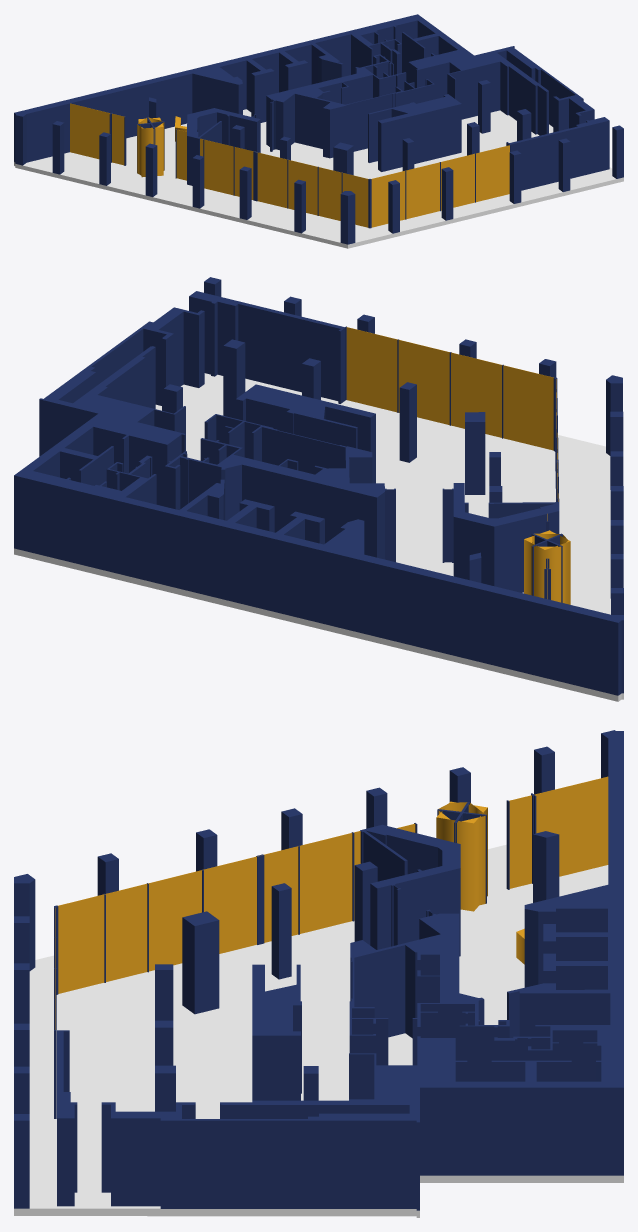
File: 1855B 1st Floor.fbx
The picture shows the model from 3 angles, top to bottom: view 1: azimuth 30°, elevation 25°; view 2: azimuth 150°, elevation 25°; view 3: azimuth 270°, elevation 25°; orthographic projection. The views are drawn at different scales.
Visible parts, largest first — view 1: Walls, Interior Member, Object_1; view 2: Walls, Object_1, Interior Member; view 3: Walls, Object_1, Interior Member.
Part boxes in pixels (box(x1,y1,x2,y2)): Walls: box(14, 14, 623, 244); Interior Member: box(70, 103, 509, 227); Object_1: box(14, 109, 623, 248); Walls: box(14, 277, 623, 695); Object_1: box(14, 373, 623, 701); Interior Member: box(346, 327, 570, 604); Walls: box(14, 730, 623, 1210); Object_1: box(14, 844, 623, 1217); Interior Member: box(55, 776, 608, 1029).
Size of the model in its own units: 1374 by 903 by 156.
